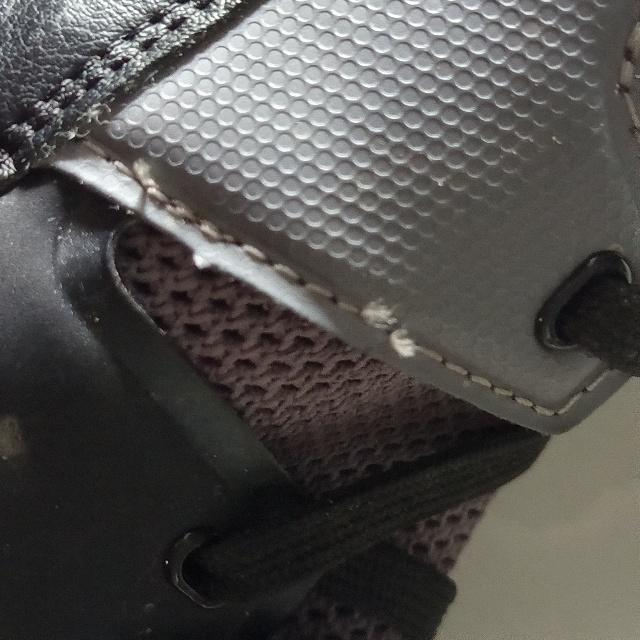broken: (356, 299, 429, 359)
